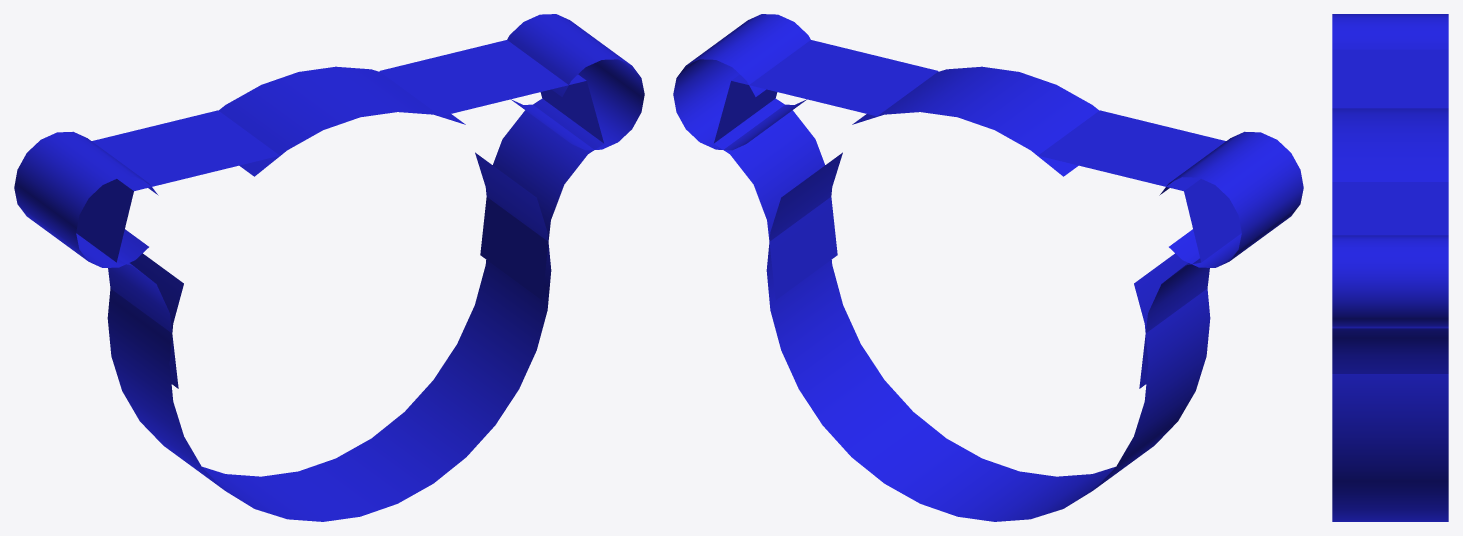
Rendered from hotracer.glb.
3 renders of one model, left to right at view 1: azimuth 30°, elevation 25°; view 2: azimuth 150°, elevation 25°; view 3: azimuth 270°, elevation 25°, orthographic. The views are drawn at different scales.
Parts seen in each view (by area): view 1: RAAPARacerModifier.001; view 2: RAAPARacerModifier.001; view 3: RAAPARacerModifier.001.
Part boxes in pixels (left/top/right/bottom): RAAPARacerModifier.001: left=14, top=14, right=644, bottom=521; RAAPARacerModifier.001: left=673, top=14, right=1303, bottom=521; RAAPARacerModifier.001: left=1332, top=14, right=1448, bottom=521.
Size of the model in its own units: 0.53 by 0.3558 by 0.1.
